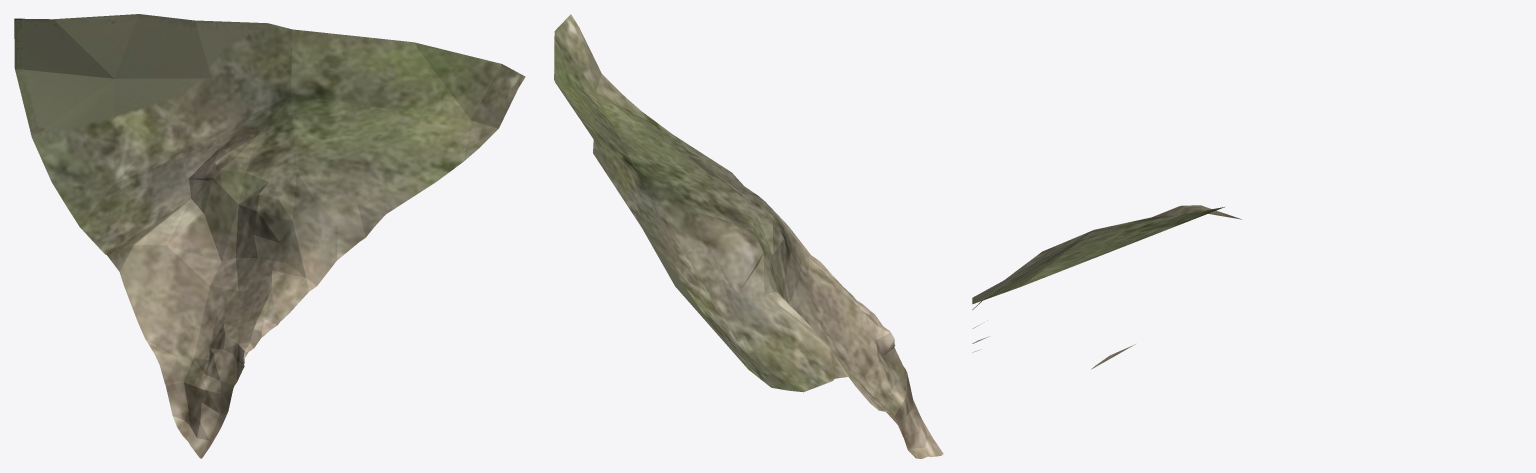
3 renders of one model, left to right at view 1: azimuth 30°, elevation 25°; view 2: azimuth 150°, elevation 25°; view 3: azimuth 270°, elevation 25°, orthographic. The views are drawn at different scales.
Bounding box in the file's own units: 4.77 × 4.27 × 4.77.
Materials: 2 (2 with a texture image).
